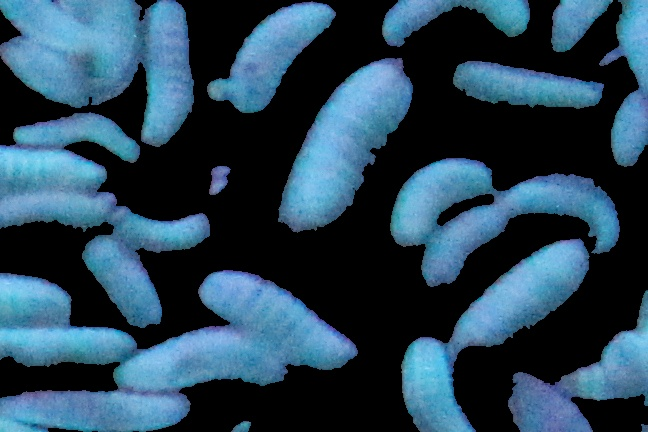larvae: (277, 60, 408, 231), (202, 269, 357, 374), (452, 238, 589, 345), (228, 1, 337, 113), (120, 327, 279, 395), (505, 169, 620, 255), (389, 158, 492, 247), (140, 1, 194, 148), (1, 391, 191, 432), (81, 235, 163, 329), (453, 58, 603, 107), (400, 338, 477, 432), (382, 1, 532, 49), (420, 206, 507, 284), (1, 326, 135, 369), (1, 41, 89, 106), (12, 112, 139, 153), (1, 146, 111, 193), (1, 1, 97, 50), (92, 1, 139, 101), (111, 204, 211, 249), (1, 192, 115, 229), (1, 274, 71, 325), (547, 1, 612, 54), (610, 87, 648, 171)
